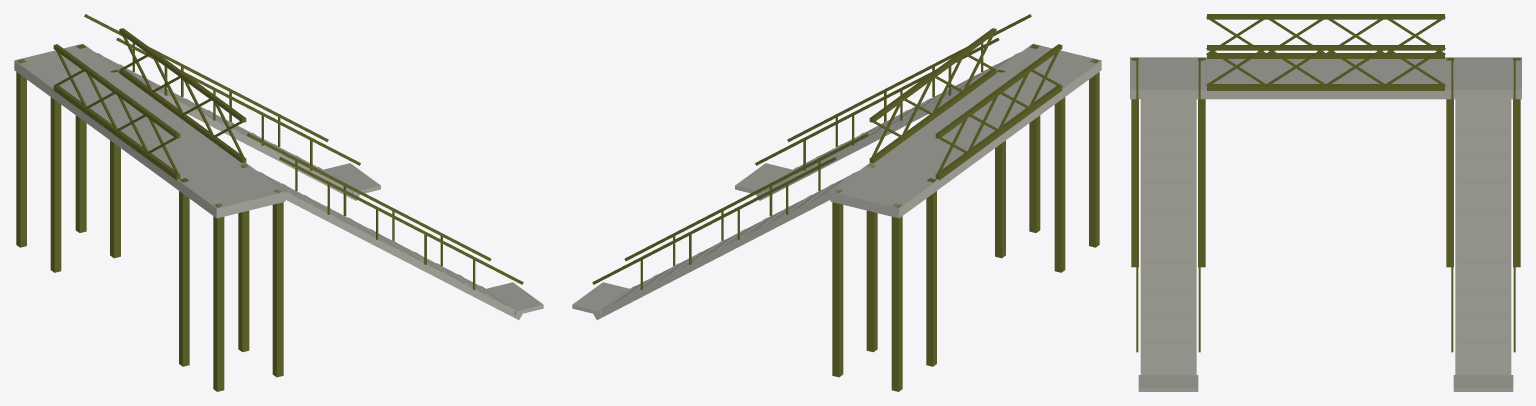
File: SM_KitPaso_v1_LOD0.fbx
The picture shows the model from 3 angles, left to right: view 1: azimuth 30°, elevation 25°; view 2: azimuth 150°, elevation 25°; view 3: azimuth 270°, elevation 25°; orthographic projection. The views are drawn at different scales.
Visible parts, largest first — view 1: SM_bloques.kit_paso_v1_LOD0; view 2: SM_bloques.kit_paso_v1_LOD0; view 3: SM_bloques.kit_paso_v1_LOD0.
Boxes of the visible parts, x1,y1,x2,y2 form: SM_bloques.kit_paso_v1_LOD0: [14, 14, 543, 391]; SM_bloques.kit_paso_v1_LOD0: [572, 14, 1101, 391]; SM_bloques.kit_paso_v1_LOD0: [1130, 14, 1521, 391].
Bounding box in the file's own units: 10.6 × 7.18 × 11.2.
